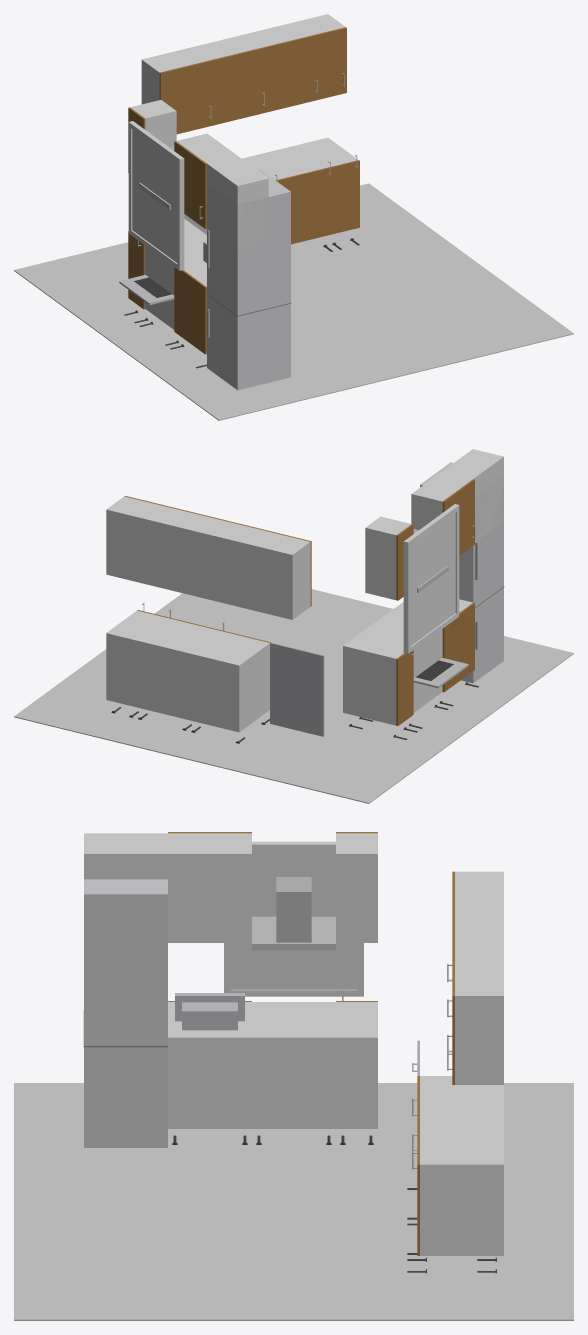
The model's file is hybrid_l_shape_viz.glb.
3 renders of one model, top to bottom at view 1: azimuth 30°, elevation 25°; view 2: azimuth 150°, elevation 25°; view 3: azimuth 270°, elevation 25°, orthographic. The views are drawn at different scales.
Parts seen in each view (by area): view 1: world; view 2: world; view 3: world.
Boxes of the visible parts, left/top/right/bottom form: world: left=14, top=14, right=573, bottom=420; world: left=14, top=449, right=573, bottom=803; world: left=14, top=832, right=573, bottom=1320.
Bounding box in the file's own units: 400 × 222 × 400.
